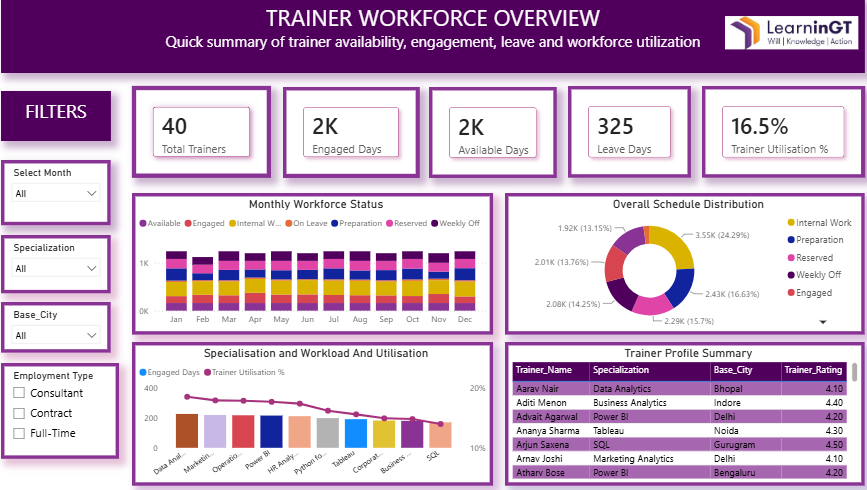

What the dashboard file says about the page in this screenshot:
{"tool":"powerbi","page":{"name":"Trainer Workforce Overview","canvas":[1280,720],"ordinal":0},"visuals":[{"type":"textbox","box":[13,0,1244.2,108],"z":0},{"type":"slicer","fields":{"Values":["Dim_Trainer.Specialization"]},"box":[13,341.3,158.4,83.5],"z":1000},{"type":"slicer","fields":{"Values":["Fact_TrainerCalendar.Base_City"]},"box":[13,437.8,158.4,73.4],"z":2000},{"type":"cardVisual","fields":{"Data":["Fact_TrainerCalendar.Engaged Days Final"]},"box":[418.3,128.7,196.6,130.5],"z":3000},{"type":"cardVisual","fields":{"Data":["Fact_TrainerCalendar.Available Days Final"]},"box":[629.3,128.2,184.3,131],"z":4000},{"type":"cardVisual","fields":{"Data":["Dim_Date.Leave Days Final"]},"box":[829.4,126.7,177.1,132.5],"z":5000},{"type":"cardVisual","fields":{"Data":["Fact_TrainerCalendar.Total Trainer"]},"box":[202,126.9,200.2,132.3],"z":6000},{"type":"cardVisual","fields":{"Data":["Fact_TrainerCalendar.Trainer Utilisation % Final"]},"box":[1022.4,126.7,234.7,132.5],"z":7000},{"type":"slicer","fields":{"Values":["Dim_Date.Month Name"]},"box":[13,233.3,158.4,93.6],"z":8000},{"type":"textbox","box":[13,133.9,158.4,72],"z":9000},{"type":"columnChart","title":"Monthly Workforce Status","fields":{"Y":["CountNonNull(Fact_TrainerCalendar.Record_ID)"],"Category":["Dim_Date.Month name Fixed"],"Series":["Fact_TrainerCalendar.Calendar Status Final"]},"box":[201.6,280.8,519.8,204.5],"z":10000},{"type":"donutChart","title":"Overall Schedule Distribution","fields":{"Y":["CountNonNull(Fact_TrainerCalendar.Record_ID)"],"Category":["Fact_TrainerCalendar.Calendar Status Final"]},"box":[738.7,280.8,518.4,204.5],"z":11000},{"type":"lineClusteredColumnComboChart","title":"Specialisation and Workload And Utilisation","fields":{"Category":["Dim_Trainer.Specialization"],"Y":["Fact_TrainerCalendar.Engaged Days"],"Y2":["Fact_TrainerCalendar.Trainer Utilisation %"]},"box":[201.6,495.4,519.8,207.4],"z":12000},{"type":"tableEx","title":"Trainer Profile Summary","fields":{"Values":["Dim_Trainer.Trainer_Name","Dim_Trainer.Specialization","Fact_TrainerCalendar.Base_City","Dim_Trainer.Trainer_Rating"]},"box":[738.7,495.4,518.4,207.4],"z":13000},{"type":"slicer","fields":{"Values":["Fact_TrainerCalendar.Employment_Type"]},"box":[13,525.6,169.9,138.2],"z":14000},{"type":"image","box":[1055.5,0,191.5,99.4],"z":15000}]}

Visuals, with their boxes in screenshot pixels (x1, y1, x2, y2), scaled from the page's 1280x720 canvas onto the 867x490 screenshot:
textbox: {"x1": 9, "y1": 0, "x2": 852, "y2": 74}
slicer - Dim_Trainer.Specialization: {"x1": 9, "y1": 232, "x2": 116, "y2": 289}
slicer - Fact_TrainerCalendar.Base_City: {"x1": 9, "y1": 298, "x2": 116, "y2": 348}
cardVisual - Fact_TrainerCalendar.Engaged Days Final: {"x1": 283, "y1": 88, "x2": 416, "y2": 176}
cardVisual - Fact_TrainerCalendar.Available Days Final: {"x1": 426, "y1": 87, "x2": 551, "y2": 176}
cardVisual - Dim_Date.Leave Days Final: {"x1": 562, "y1": 86, "x2": 682, "y2": 176}
cardVisual - Fact_TrainerCalendar.Total Trainer: {"x1": 137, "y1": 86, "x2": 272, "y2": 176}
cardVisual - Fact_TrainerCalendar.Trainer Utilisation % Final: {"x1": 693, "y1": 86, "x2": 851, "y2": 176}
slicer - Dim_Date.Month Name: {"x1": 9, "y1": 159, "x2": 116, "y2": 222}
textbox: {"x1": 9, "y1": 91, "x2": 116, "y2": 140}
"Monthly Workforce Status" columnChart: {"x1": 137, "y1": 191, "x2": 489, "y2": 330}
"Overall Schedule Distribution" donutChart: {"x1": 500, "y1": 191, "x2": 851, "y2": 330}
"Specialisation and Workload And Utilisation" lineClusteredColumnComboChart: {"x1": 137, "y1": 337, "x2": 489, "y2": 478}
"Trainer Profile Summary" tableEx: {"x1": 500, "y1": 337, "x2": 851, "y2": 478}
slicer - Fact_TrainerCalendar.Employment_Type: {"x1": 9, "y1": 358, "x2": 124, "y2": 452}
image: {"x1": 715, "y1": 0, "x2": 845, "y2": 68}
